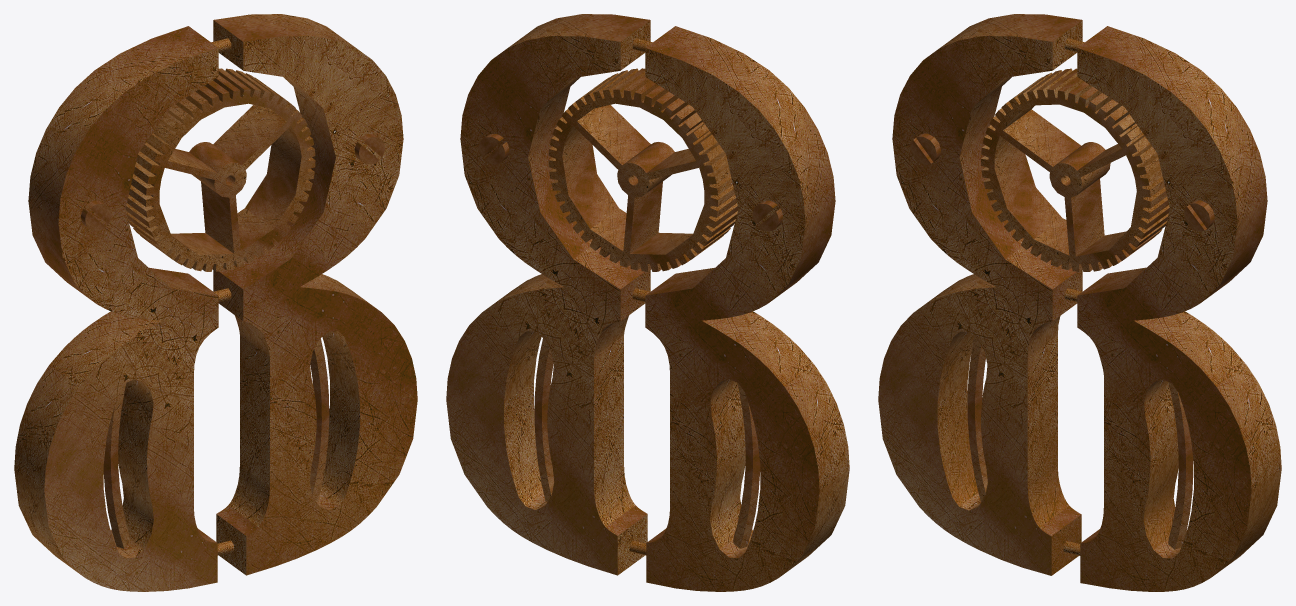
3 renders of one model, left to right at view 1: azimuth 30°, elevation 25°; view 2: azimuth 150°, elevation 25°; view 3: azimuth 330°, elevation 25°, orthographic.
Visible parts, largest first — view 1: 037, Cogwheel_399, Tube_633, Tube_694, Screw_755, Screw_716; view 2: 037, Cogwheel_399, Tube_633, Tube_694, Screw_755, Screw_716; view 3: 037, Cogwheel_399, Tube_694, Tube_633, Screw_755, Screw_716.
Boxes of the visible parts, x1,y1,x2,y2 form: 037: (14, 14, 417, 591); Cogwheel_399: (125, 68, 315, 271); Tube_633: (103, 383, 130, 548); Tube_694: (309, 338, 329, 501); Screw_755: (354, 134, 384, 164); Screw_716: (81, 200, 111, 231); 037: (446, 14, 849, 591); Cogwheel_399: (548, 68, 738, 271); Tube_633: (733, 382, 760, 548); Tube_694: (534, 338, 554, 501); Screw_755: (479, 134, 509, 164); Screw_716: (752, 200, 782, 231); 037: (878, 14, 1281, 591); Cogwheel_399: (981, 68, 1169, 271); Tube_694: (1168, 382, 1193, 549); Tube_633: (967, 337, 987, 501); Screw_755: (1184, 200, 1214, 231); Screw_716: (910, 133, 940, 164).
Bounding box in the file's own units: 71.74 × 98.09 × 12.89.
1 material, 1 textured.
